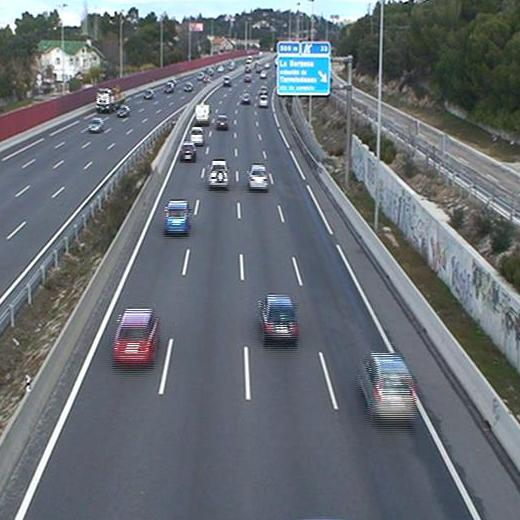car: (359, 353, 415, 421), (112, 307, 160, 363), (258, 295, 299, 340), (163, 200, 191, 233), (206, 159, 229, 185), (247, 163, 269, 190), (180, 142, 197, 160), (189, 125, 204, 145), (215, 115, 229, 128)
van: (195, 105, 210, 121)
